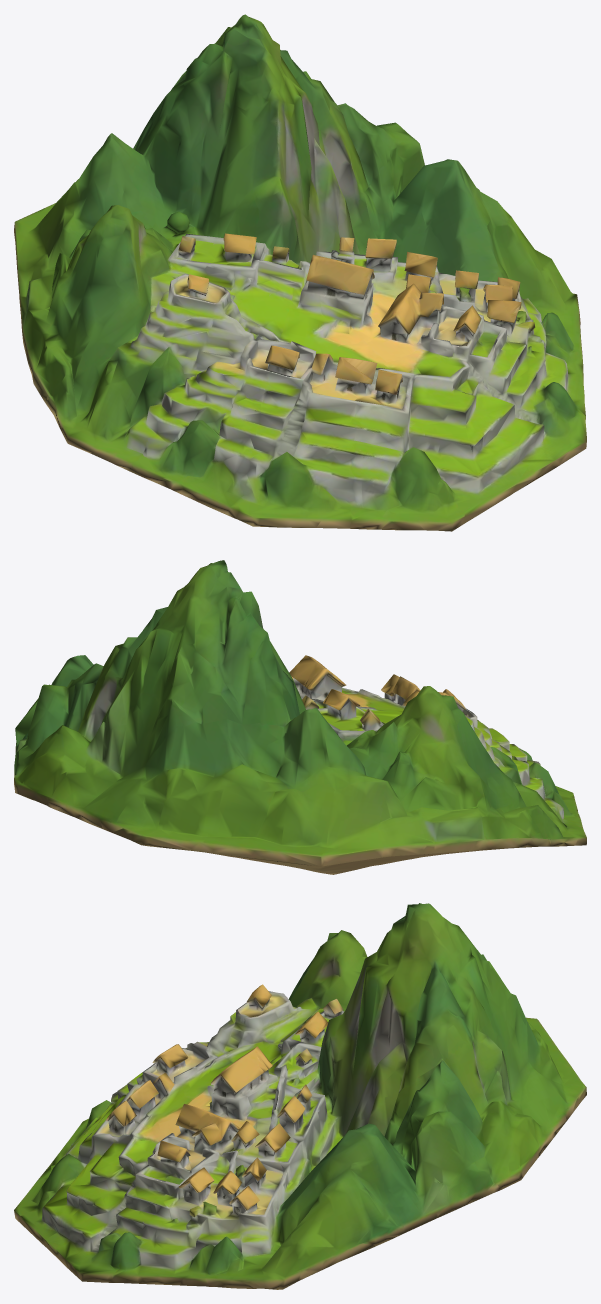
Rendered from machu-picchu.glb.
3 views of the same model, one above another, from view 1: azimuth 30°, elevation 25°; view 2: azimuth 150°, elevation 25°; view 3: azimuth 270°, elevation 25° (orthographic). The views are drawn at different scales.
Parts seen in each view (by area): view 1: tripo_node_a2610485-4c2d-4a2b-9f39-b2201b35f964; view 2: tripo_node_a2610485-4c2d-4a2b-9f39-b2201b35f964; view 3: tripo_node_a2610485-4c2d-4a2b-9f39-b2201b35f964.
Part boxes in pixels (x1,y1,x2,y2): tripo_node_a2610485-4c2d-4a2b-9f39-b2201b35f964: [14, 14, 586, 531]; tripo_node_a2610485-4c2d-4a2b-9f39-b2201b35f964: [14, 560, 586, 874]; tripo_node_a2610485-4c2d-4a2b-9f39-b2201b35f964: [14, 903, 586, 1289].
Size of the model in its own units: 0.9895 by 0.6494 by 0.9996.
Materials: 1 (1 with a texture image).
